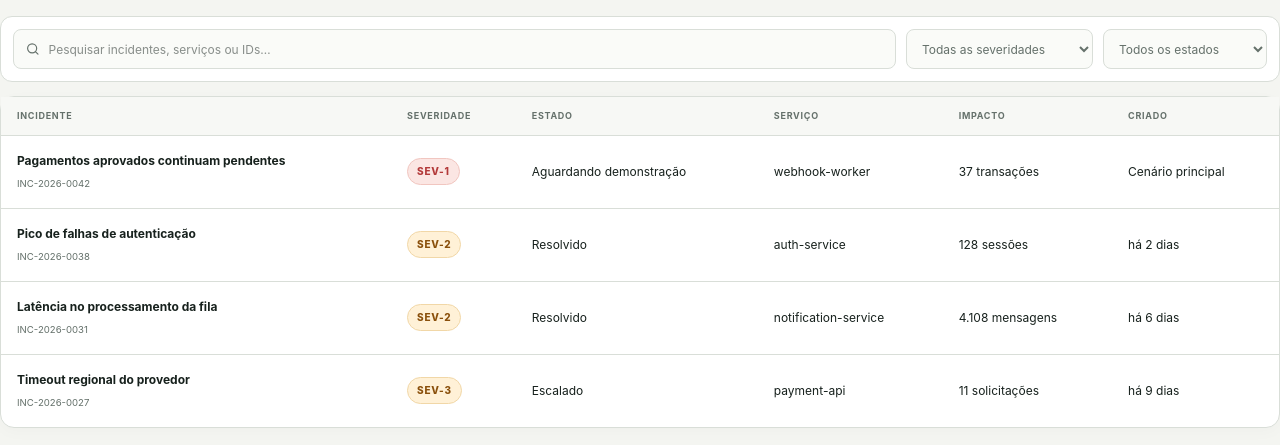
Test: product UI › filters the fictional incident list
In the field with placeholder "Pesquisar incidentes, serviços ou IDs…": (466, 49) [49,30,884,68], type "autenticação"
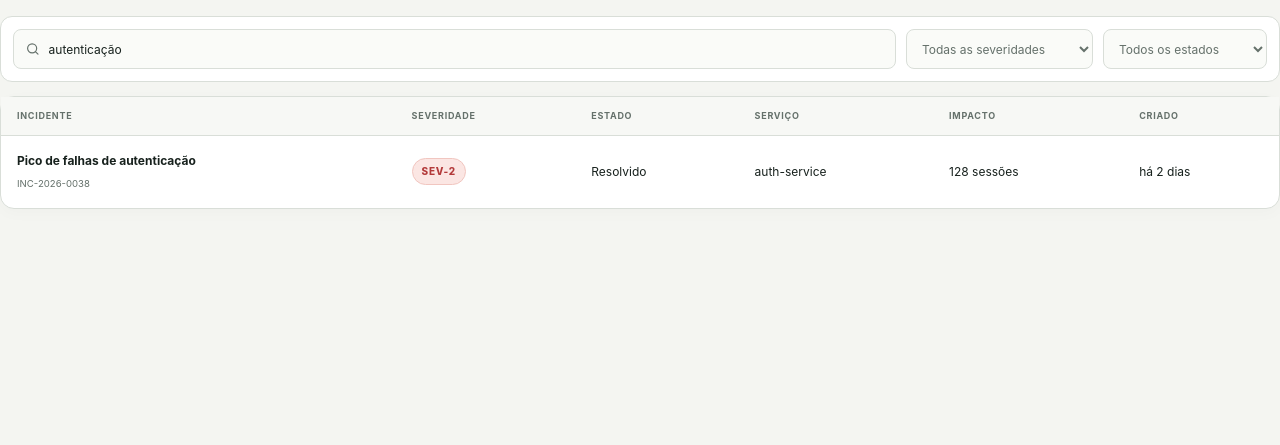
Check: the text "Pico de falhas de autenticação" is shown, box [17,152,196,168]
Check: the link "Pagamentos aprovados continuam pendentes" is gone
